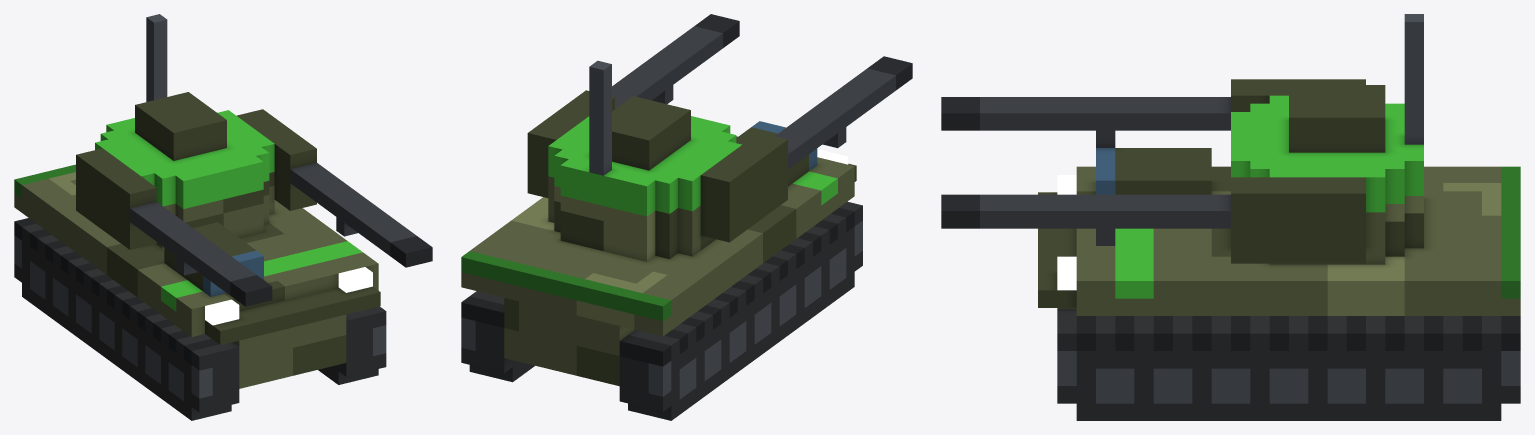
3 renders of one model, left to right at view 1: azimuth 30°, elevation 25°; view 2: azimuth 150°, elevation 25°; view 3: azimuth 270°, elevation 25°, orthographic. The views are drawn at different scales.
Visible parts, largest first — view 1: cm_aa_3_body; view 2: cm_aa_3_body; view 3: cm_aa_3_body.
Boxes of the visible parts, bbox=[...] form: cm_aa_3_body: bbox=[14, 14, 432, 420]; cm_aa_3_body: bbox=[461, 14, 912, 420]; cm_aa_3_body: bbox=[941, 14, 1520, 420].
Bounding box in the file's own units: 0.875 × 1.25 × 1.88.
1 material, 1 textured.
